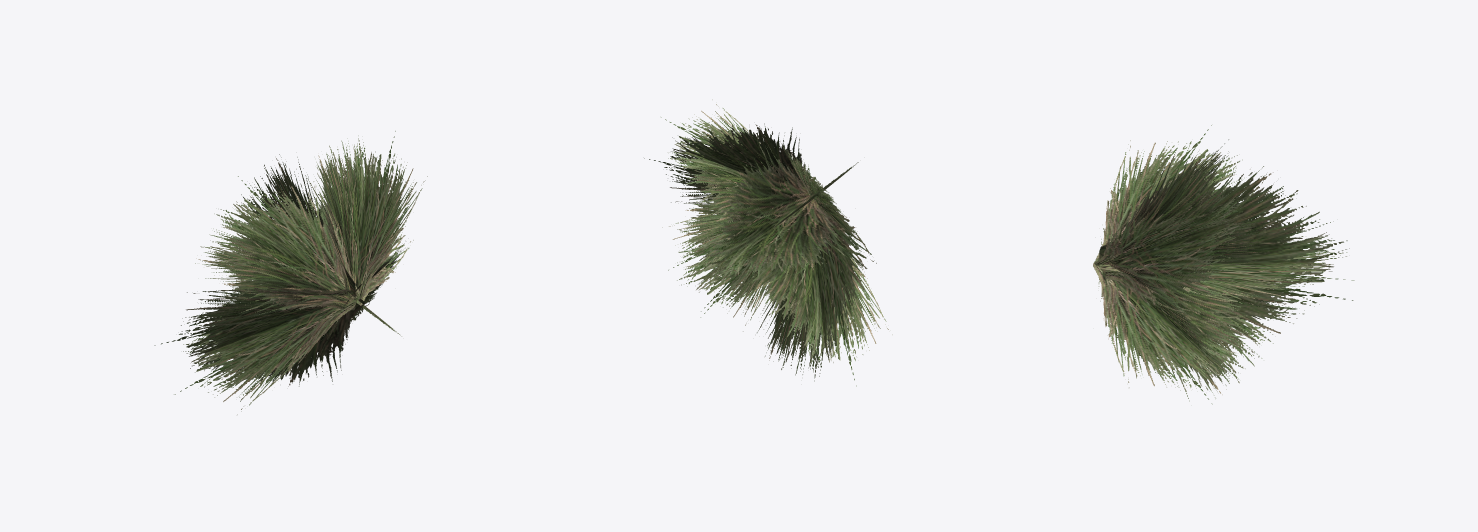
Rendered from fbx_grass_001.fbx.
3 renders of one model, left to right at view 1: azimuth 30°, elevation 25°; view 2: azimuth 150°, elevation 25°; view 3: azimuth 270°, elevation 25°, orthographic. The views are drawn at different scales.
Visible parts, largest first — view 1: fbx_grass_001; view 2: fbx_grass_001; view 3: fbx_grass_001.
Boxes of the visible parts, left/top/right/bottom form: fbx_grass_001: left=154, top=131, right=427, bottom=414; fbx_grass_001: left=644, top=99, right=892, bottom=386; fbx_grass_001: left=1093, top=125, right=1354, bottom=404.
Size of the model in its own units: 76.97 by 76.6 by 68.94.
